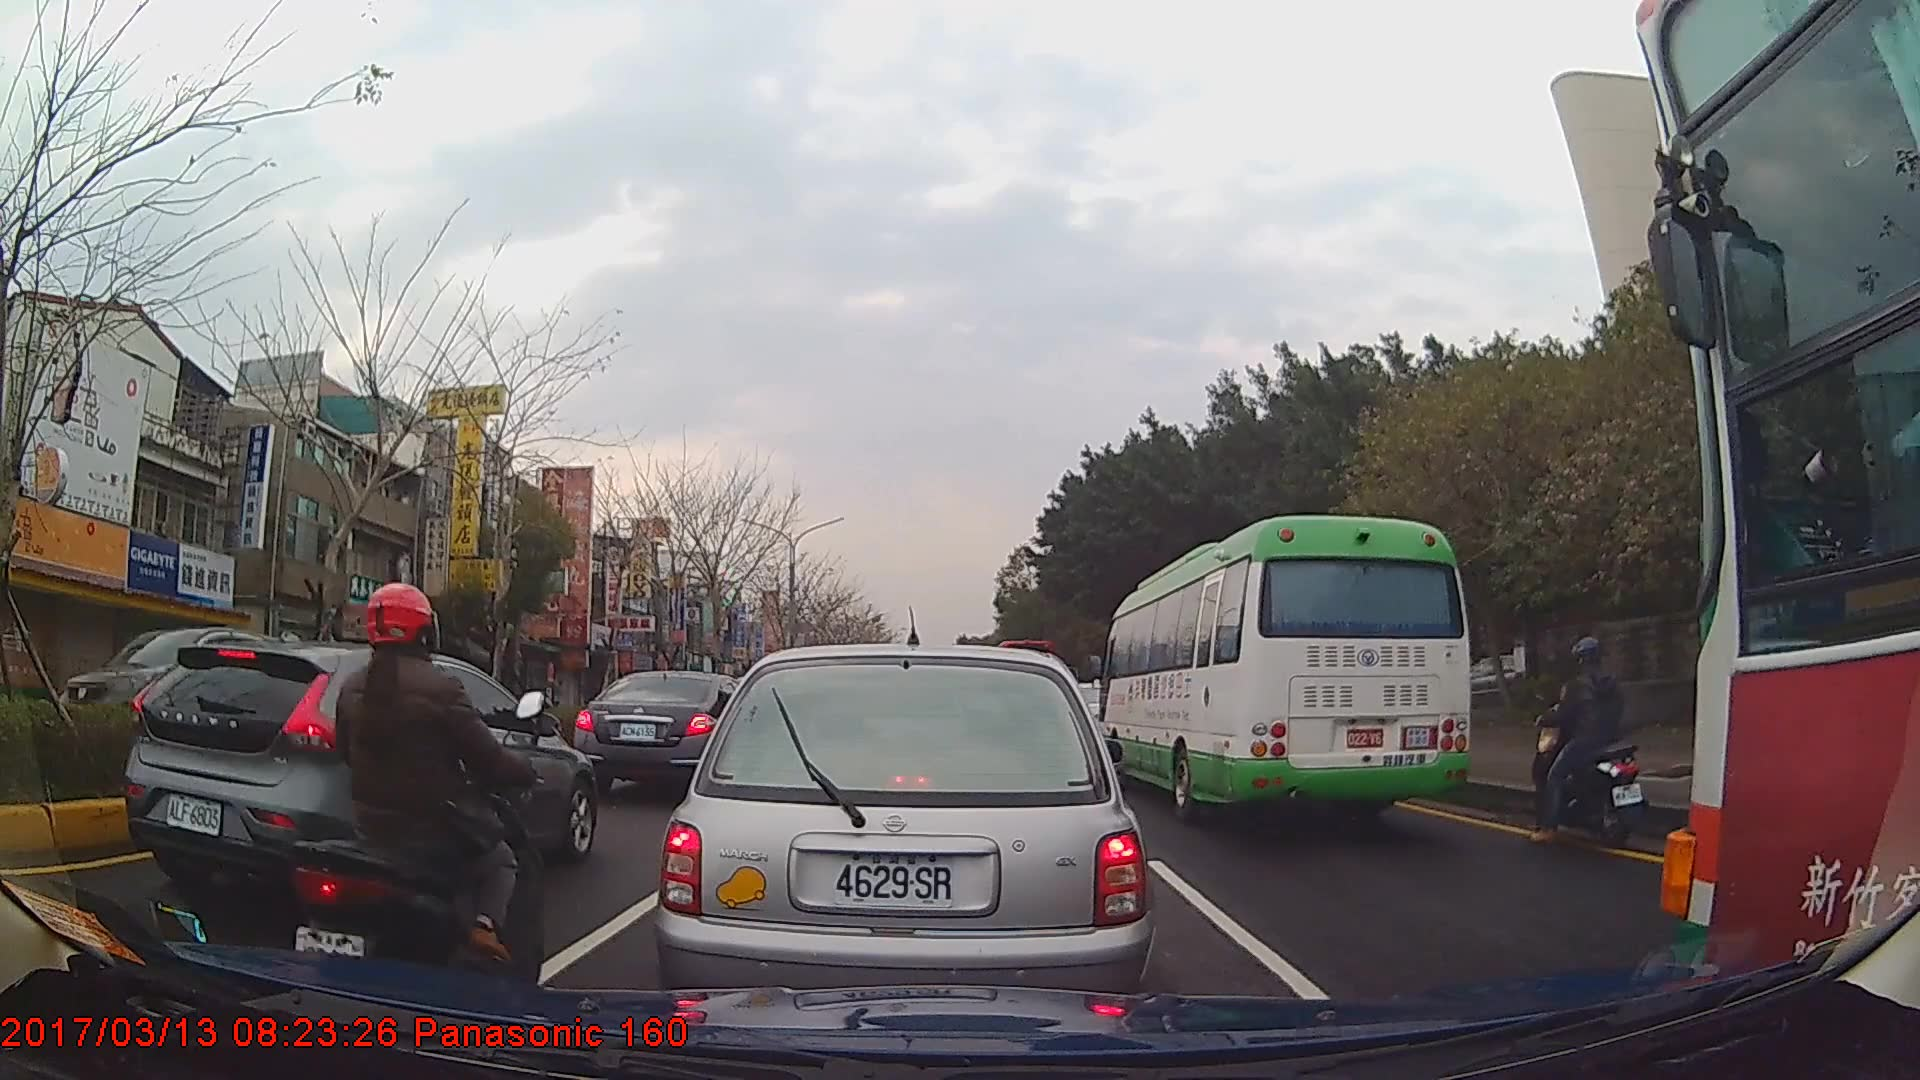rider: (309, 576, 535, 1018), (1527, 634, 1643, 847)
vehicle: (654, 640, 1158, 1040), (123, 644, 596, 920), (1102, 513, 1472, 819), (54, 626, 301, 744), (574, 669, 758, 801)
